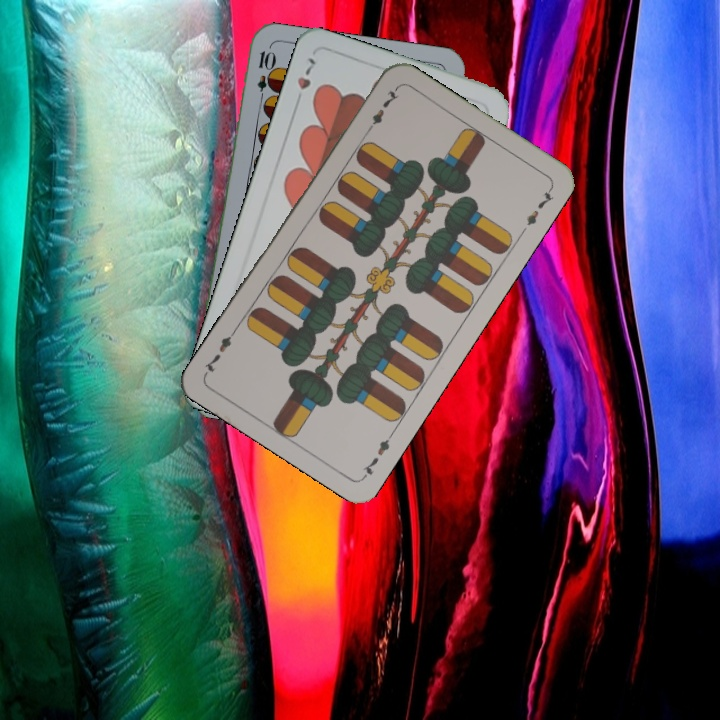E10: (253, 47, 275, 106)
E7: (363, 84, 402, 136), (358, 428, 397, 480)
H7: (290, 53, 318, 109)
